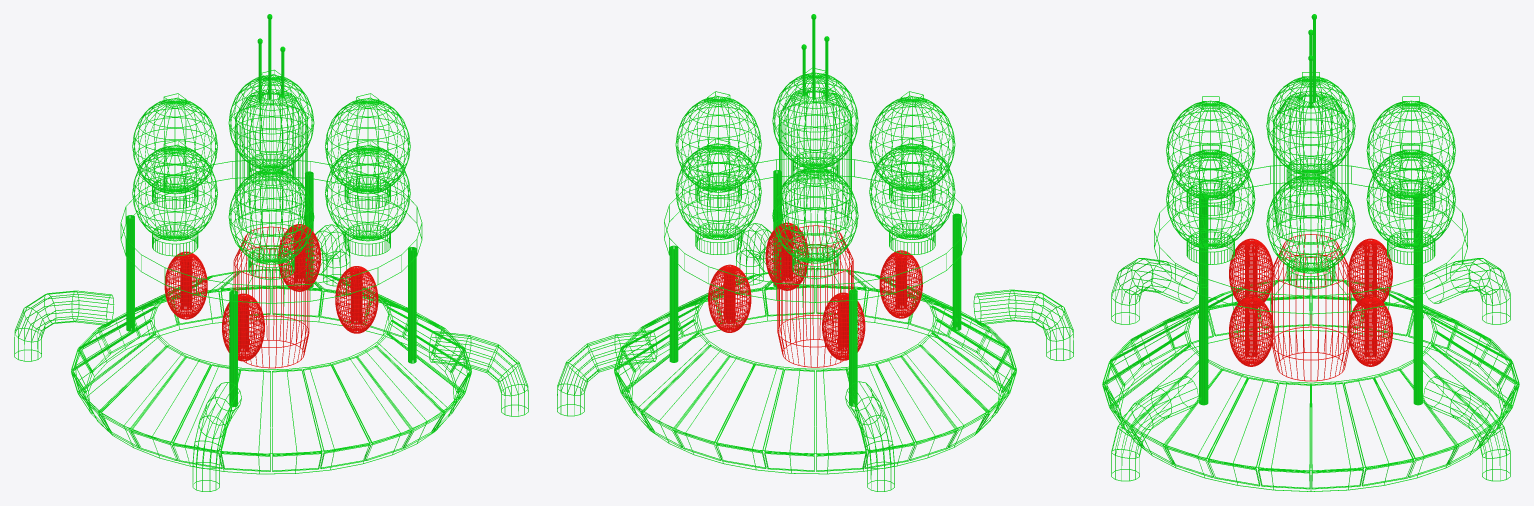
Rendered from powerplant-highlight-asteros-mini-mining-facility.glb.
The picture shows the model from 3 angles, left to right: view 1: azimuth 30°, elevation 25°; view 2: azimuth 150°, elevation 25°; view 3: azimuth 270°, elevation 25°; orthographic projection. The views are drawn at different scales.
Parts seen in each view (by area): view 1: six-fusion-reactor-cells technical wire, chassis technical wire, asteros-mini-mining-facility technical wire, four-waste-ore-pipes technical wire, control-computer-and-antennae technical wire; view 2: six-fusion-reactor-cells technical wire, chassis technical wire, asteros-mini-mining-facility technical wire, four-waste-ore-pipes technical wire, control-computer-and-antennae technical wire; view 3: six-fusion-reactor-cells technical wire, chassis technical wire, asteros-mini-mining-facility technical wire, four-waste-ore-pipes technical wire, control-computer-and-antennae technical wire.
Boxes of the visible parts, bbox=[...] form: six-fusion-reactor-cells technical wire: bbox=[132, 69, 410, 279]; chassis technical wire: bbox=[71, 159, 471, 474]; asteros-mini-mining-facility technical wire: bbox=[164, 224, 378, 368]; four-waste-ore-pipes technical wire: bbox=[14, 224, 528, 491]; control-computer-and-antennae technical wire: bbox=[235, 14, 307, 236]; six-fusion-reactor-cells technical wire: bbox=[675, 68, 955, 278]; chassis technical wire: bbox=[614, 157, 1016, 474]; asteros-mini-mining-facility technical wire: bbox=[708, 222, 922, 367]; four-waste-ore-pipes technical wire: bbox=[557, 223, 1073, 491]; control-computer-and-antennae technical wire: bbox=[779, 14, 851, 235]; six-fusion-reactor-cells technical wire: bbox=[1166, 72, 1455, 289]; chassis technical wire: bbox=[1102, 163, 1519, 491]; asteros-mini-mining-facility technical wire: bbox=[1229, 234, 1392, 381]; four-waste-ore-pipes technical wire: bbox=[1111, 258, 1510, 481]; control-computer-and-antennae technical wire: bbox=[1273, 14, 1348, 244].
Bounding box in the file's own units: 2.45 × 2.57 × 2.45.
